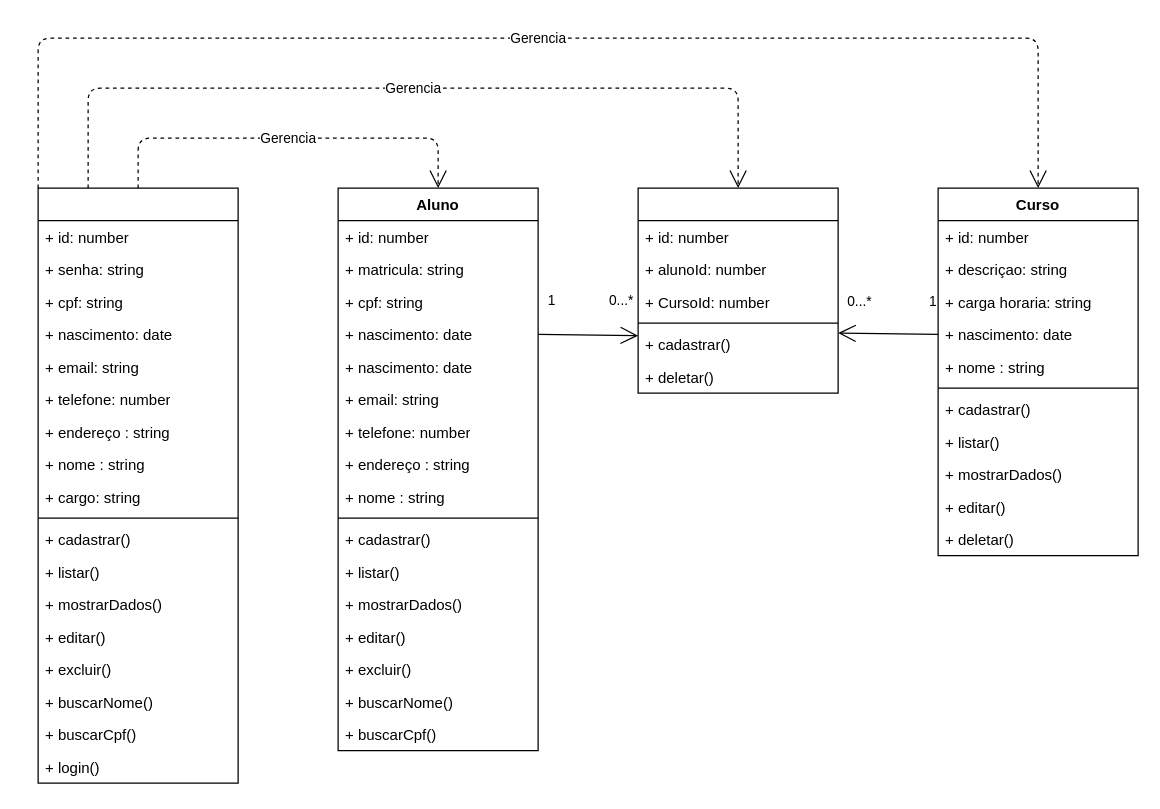
The diagram is 1160 pixels wide and 809 high, and some of its shapes have lost their labels. The shapes that lost their labels are listed below. From the top down, each one's box as (x1, y1, x2, y2) in pixels, then its label:
(637, 187, 838, 393): Matrícula
(37, 187, 238, 783): Funcionario
